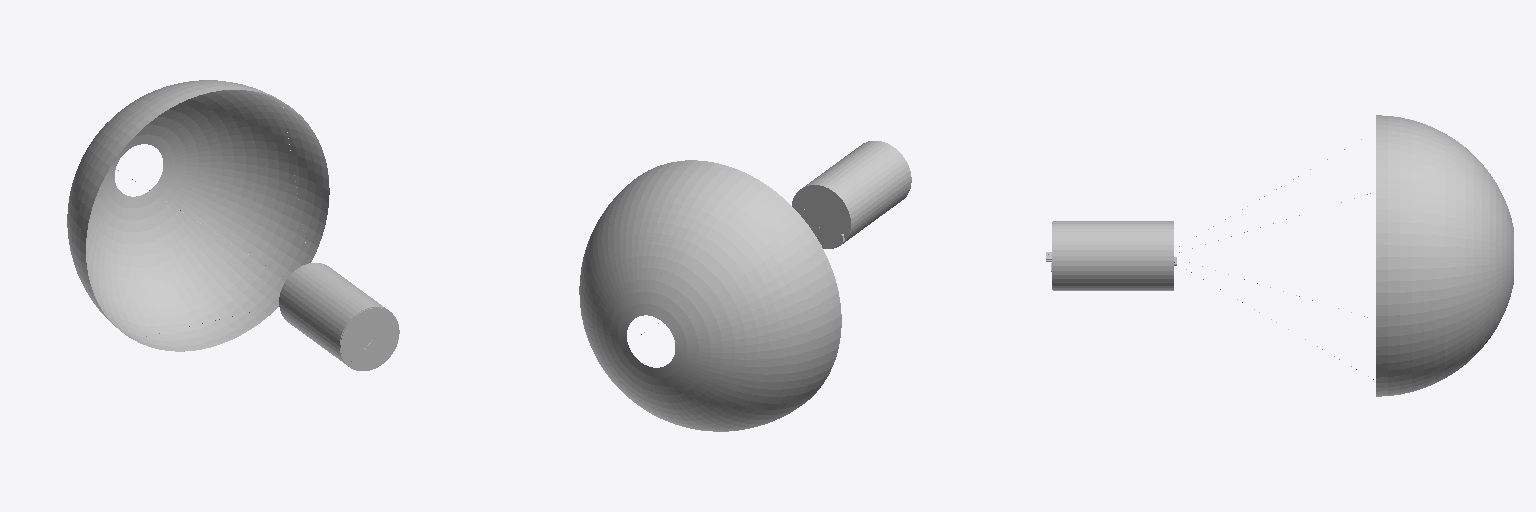
The model's file is Payload assembly 4 (1).obj.
The picture shows the model from 3 angles: view 1: azimuth 30°, elevation 25°; view 2: azimuth 150°, elevation 25°; view 3: azimuth 270°, elevation 25°; orthographic projection.
Parts seen in each view (by area): view 1: mesh 5 SERVO DEMO-1, mesh 2 Boss-Extrude21; view 2: mesh 5 SERVO DEMO-1, mesh 2 Boss-Extrude21; view 3: mesh 5 SERVO DEMO-1, mesh 2 Boss-Extrude21.
Boxes of the visible parts, box(x1,y1,x2,y2) form: mesh 5 SERVO DEMO-1: box(67, 80, 329, 351); mesh 2 Boss-Extrude21: box(279, 263, 399, 370); mesh 5 SERVO DEMO-1: box(579, 160, 841, 431); mesh 2 Boss-Extrude21: box(792, 141, 911, 248); mesh 5 SERVO DEMO-1: box(1376, 115, 1513, 396); mesh 2 Boss-Extrude21: box(1046, 221, 1173, 290).
Bounding box in the file's own units: 0.4998 × 0.4999 × 0.8304.